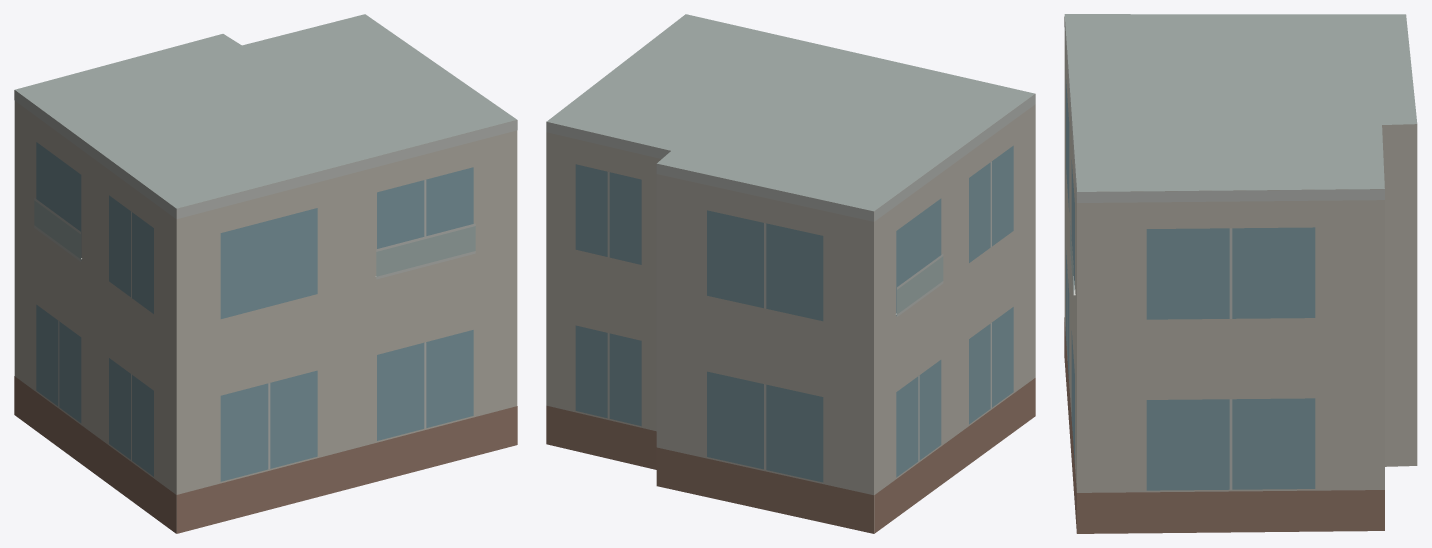
Rendered from survey-upis-32938587.glb.
The picture shows the model from 3 angles, left to right: view 1: azimuth 30°, elevation 25°; view 2: azimuth 150°, elevation 25°; view 3: azimuth 270°, elevation 25°; orthographic projection. The views are drawn at different scales.
Parts seen in each view (by area): view 1: survey-upis-32938587.tmp; view 2: survey-upis-32938587.tmp; view 3: survey-upis-32938587.tmp.
Part boxes in pixels (left/top/right/bottom): survey-upis-32938587.tmp: left=14, top=14, right=517, bottom=533; survey-upis-32938587.tmp: left=546, top=14, right=1035, bottom=533; survey-upis-32938587.tmp: left=1064, top=14, right=1417, bottom=533.
Bounding box in the file's own units: 8.41 × 7.5 × 7.03.
